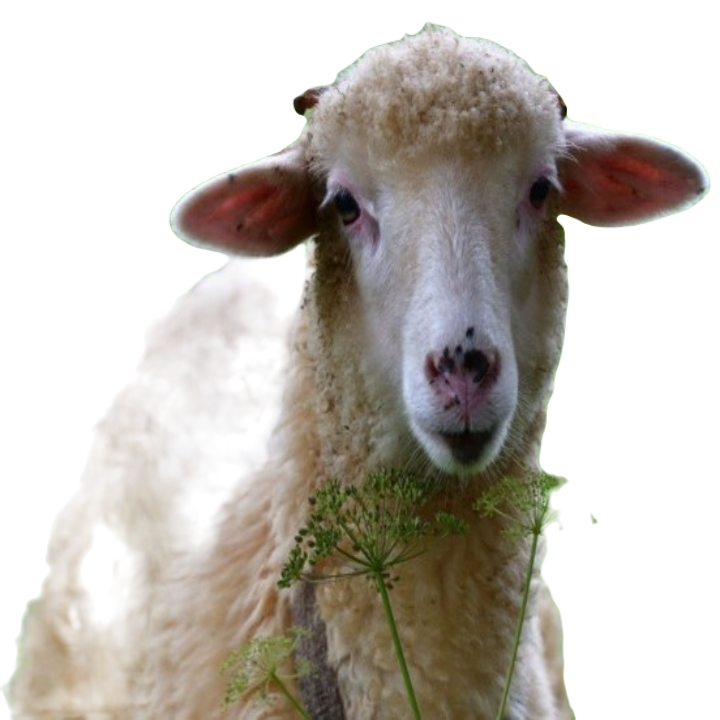Sheep: (0, 26, 710, 719)
